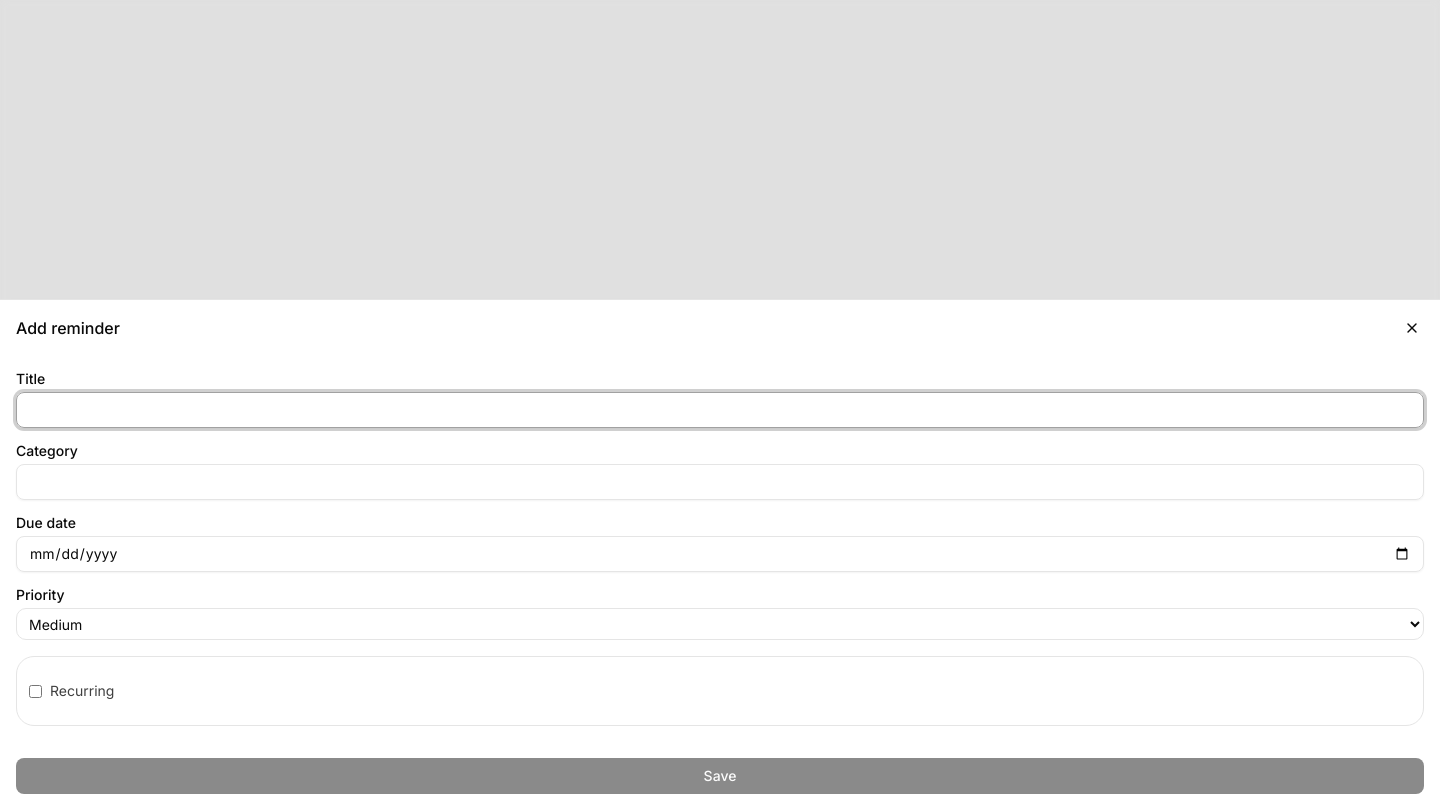
Test: ReminderForm › disables save until required fields are filled
Check: the button "Save" is disabled, box [16, 758, 1424, 794]
Type "Water plants" into the field labelled "Title". click: (720, 410)
box: [16, 392, 1424, 428]
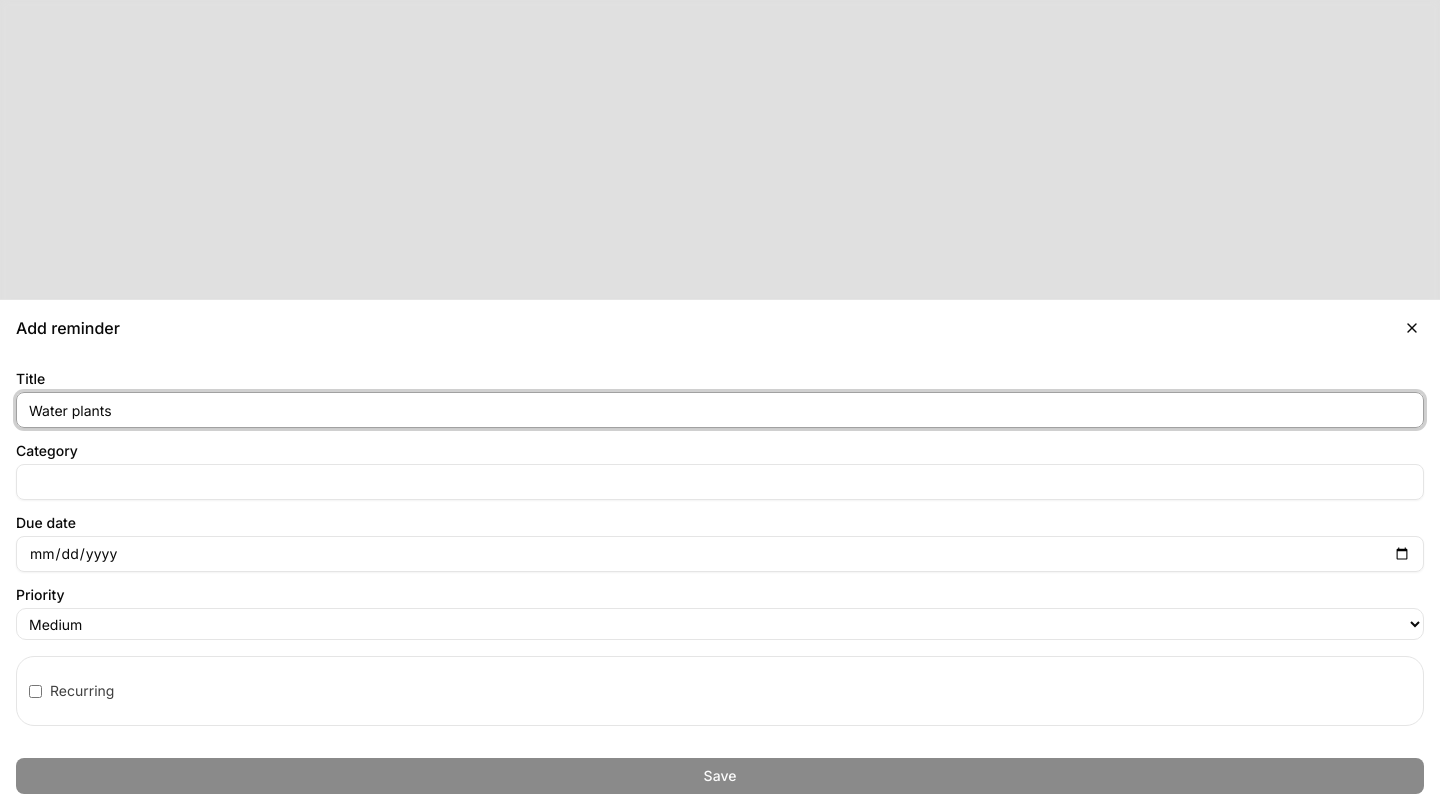
Type "Home" into the field labelled "Category". click: (720, 482)
box: [16, 464, 1424, 500]
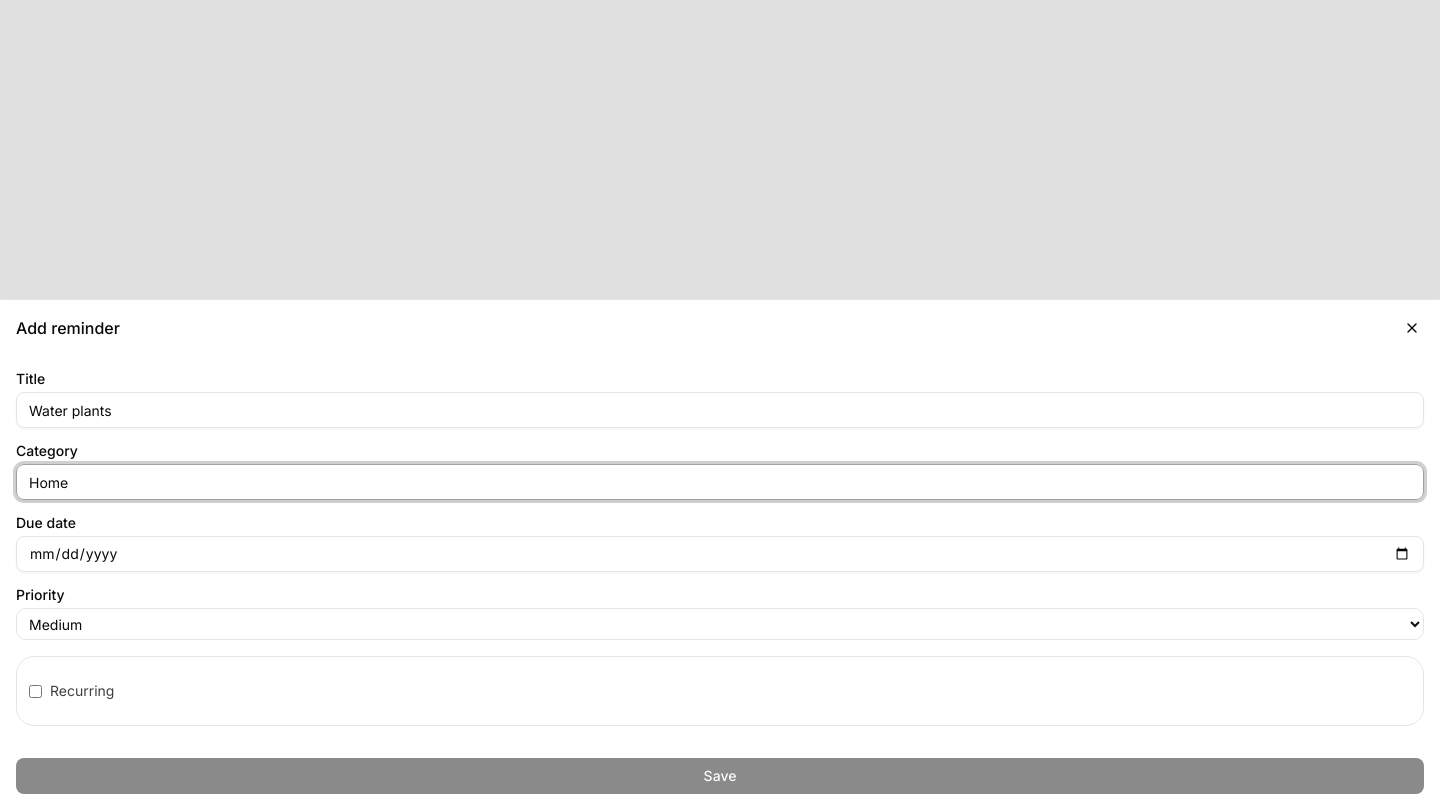
Type "2026-08-20" into the date field labelled "Due date". click: (720, 554)
box: [16, 536, 1424, 572]
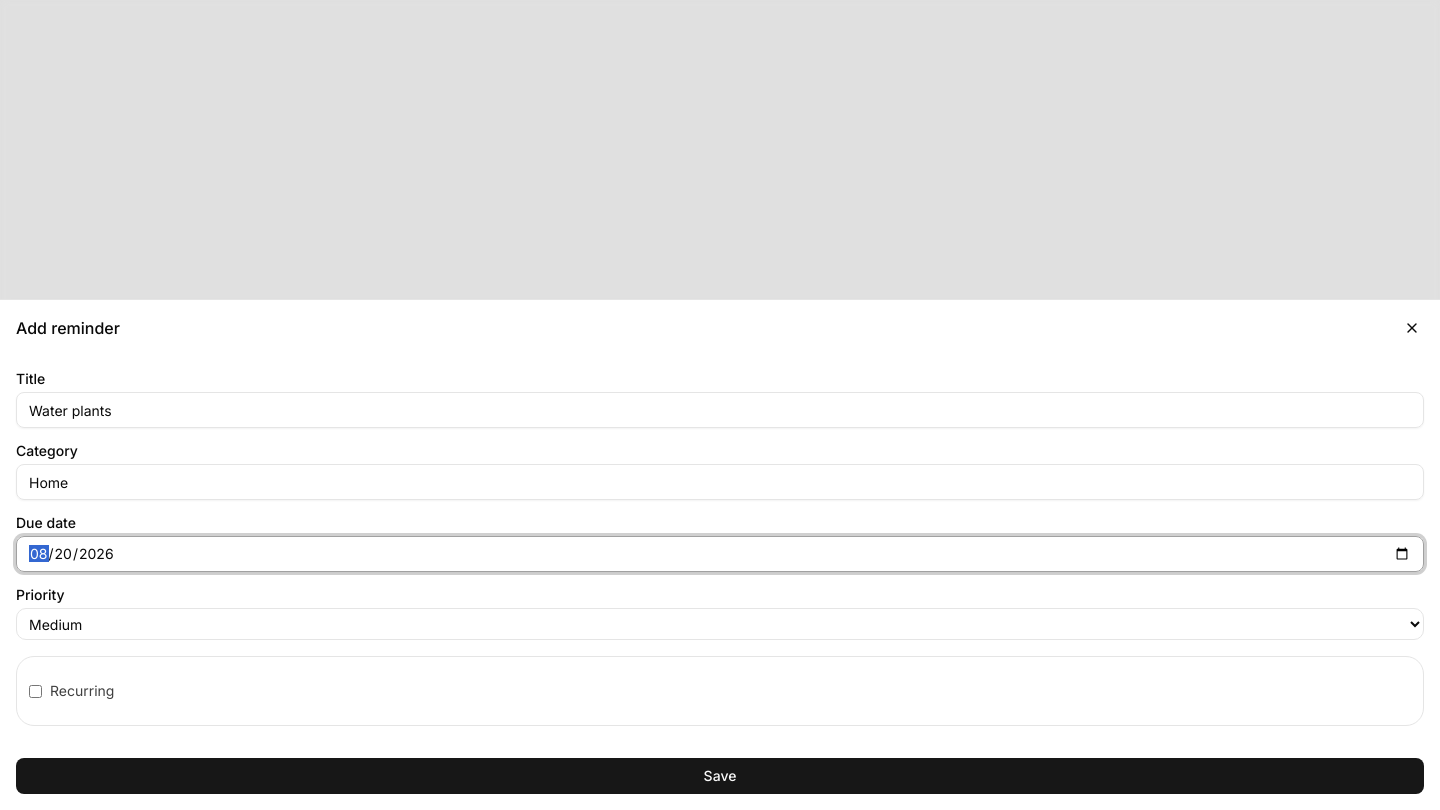
Check: the button "Save" is enabled, box [16, 758, 1424, 794]
